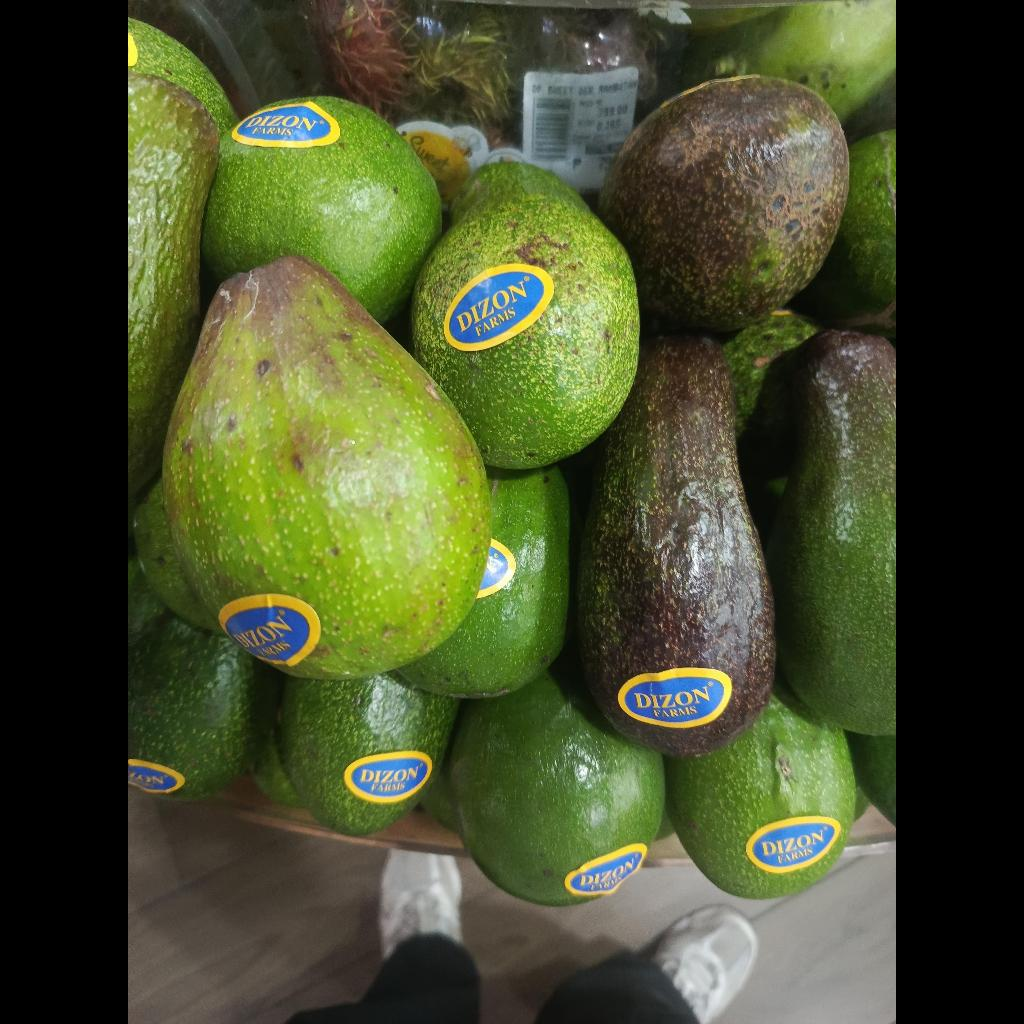antracnosis_fruto: (164, 256, 491, 678), (579, 335, 775, 756), (411, 163, 640, 469), (598, 75, 849, 332)
fruto_sano: (449, 651, 664, 906), (202, 96, 441, 323), (766, 330, 896, 735), (665, 688, 856, 898), (402, 466, 570, 698), (282, 671, 458, 836)
